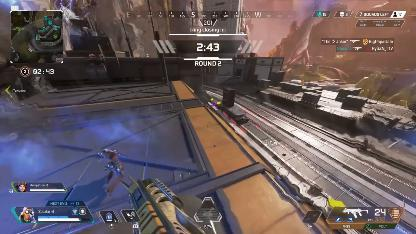Target: (97, 147, 121, 191)
